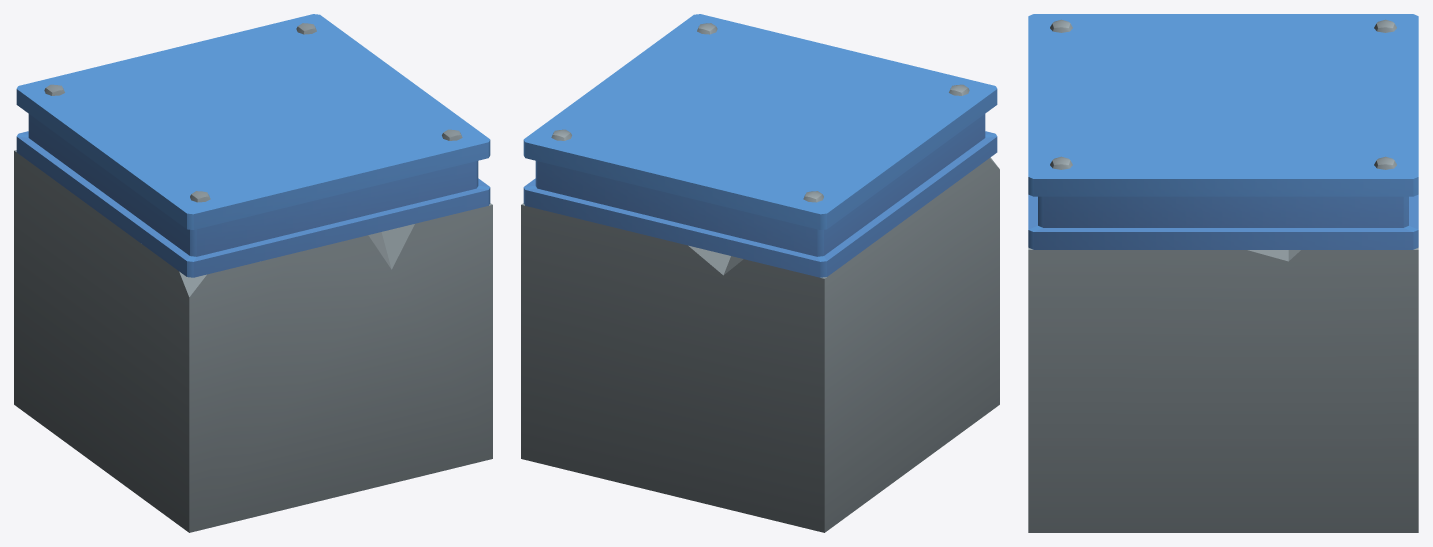
Rendered from block_D.gltf.glb.
The picture shows the model from 3 angles, left to right: view 1: azimuth 30°, elevation 25°; view 2: azimuth 150°, elevation 25°; view 3: azimuth 270°, elevation 25°; orthographic projection. The views are drawn at different scales.
Visible parts, largest first — view 1: block_D; view 2: block_D; view 3: block_D.
Part boxes in pixels (box(x1,y1,x2,y2)): block_D: box(14, 14, 492, 532); block_D: box(521, 14, 999, 532); block_D: box(1028, 14, 1418, 532).
Bounding box in the file's own units: 2 × 2.04 × 2.
Materials: 1 (1 with a texture image).
